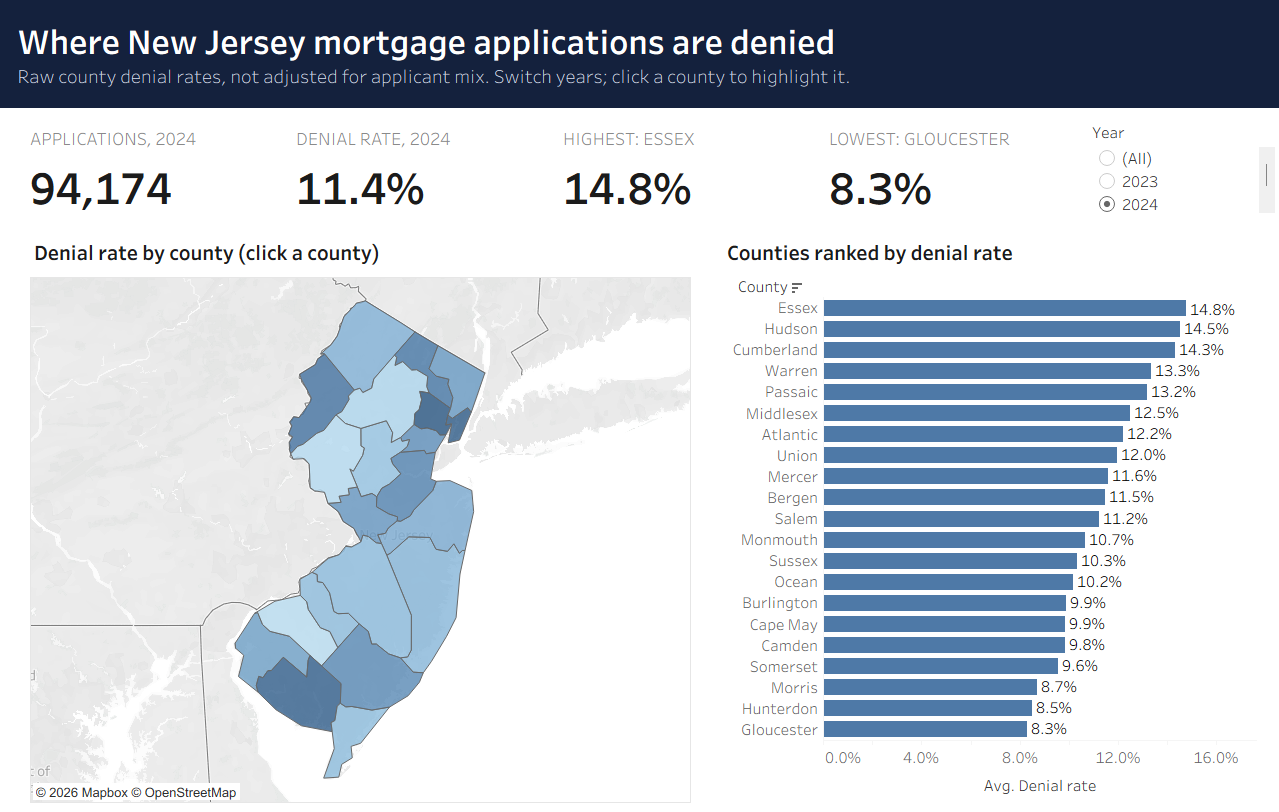

The page's visual inventory and layout, read from the dashboard file:
{"tool":"tableau","page":{"name":"1. Where","canvas":[1300,860],"ordinal":0},"visuals":[{"type":"text","box":[0,0,1300,107.5]},{"type":"worksheet","title":"KPI apps","mark":"Text","box":[19.5,116.1,253.5,103.2]},{"type":"worksheet","title":"KPI denial","mark":"Text","box":[286,116.1,253.5,103.2]},{"type":"worksheet","title":"KPI high","mark":"Text","box":[552.5,116.1,253.5,103.2]},{"type":"worksheet","title":"KPI low","mark":"Text","box":[819,116.1,253.5,103.2]},{"type":"filter","title":"County map","param":"[federated.county].[none:year:ok]","box":[1085.5,116.1,195,103.2]},{"type":"worksheet","title":"County map","mark":"Automatic","box":[19.5,223.6,680.5,589.1]},{"type":"worksheet","title":"County ranking","mark":"Bar","rows":["county"],"cols":["denial_rate"],"box":[713,223.6,554.4,589.1]},{"type":"text","box":[19.5,825.6,1261,34.4]}]}

Visuals, with their boxes on the page's 1300x860 design canvas (x1, y1, x2, y2). These are canvas units, not pixel positions in the 1279x812 screenshot, which may show the page scaled, cropped or inside an application window:
text: bbox=[0, 0, 1300, 108]
"KPI apps" worksheet (Text marks): bbox=[20, 116, 273, 219]
"KPI denial" worksheet (Text marks): bbox=[286, 116, 540, 219]
"KPI high" worksheet (Text marks): bbox=[552, 116, 806, 219]
"KPI low" worksheet (Text marks): bbox=[819, 116, 1072, 219]
"County map" filter: bbox=[1086, 116, 1280, 219]
"County map" worksheet: bbox=[20, 224, 700, 813]
"County ranking" worksheet (Bar marks): bbox=[713, 224, 1267, 813]
text: bbox=[20, 826, 1280, 860]
